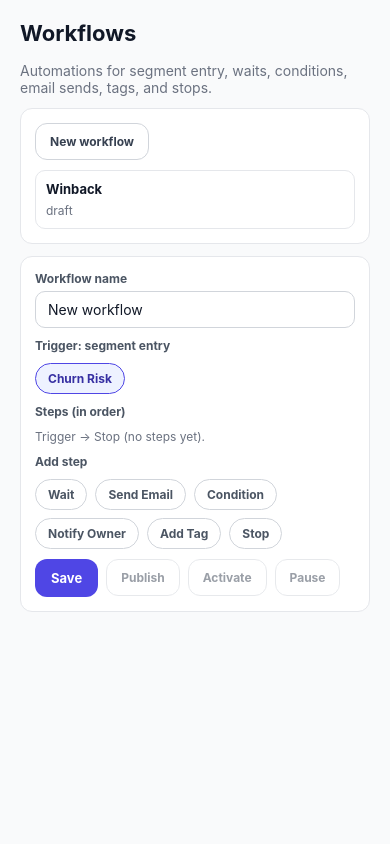
Test case: OwnerMarketingWorkflowsScreen › builds a linear graph with web's node defaults and saves
Expected: the text "Winback" is shown, [46,181,102,197]
Replace the text in the field named "Workflow name" with "Welcome drip": (195, 310) [35,291,355,328]
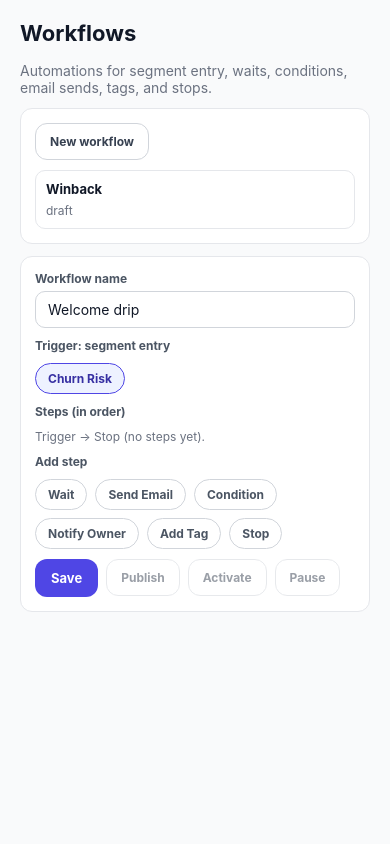
Click the button with aria-label "Add wait": (61, 494) [35,479,87,510]
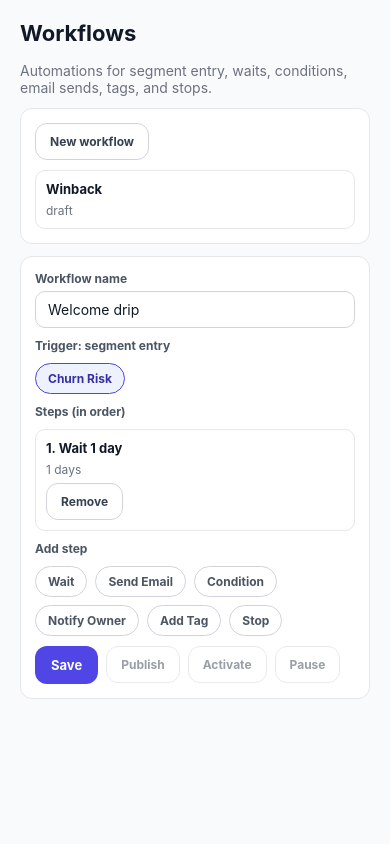
Click the button with aria-label "Add send_email": (141, 582) [95,566,186,597]
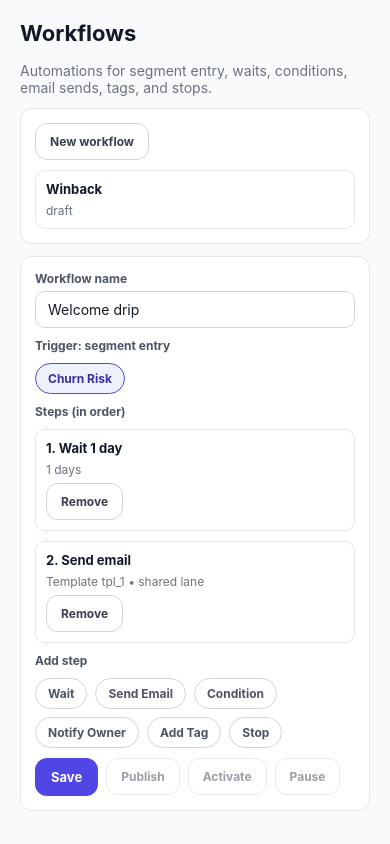
Click the button with aria-label "Save workflow": (67, 777) [35,758,98,796]
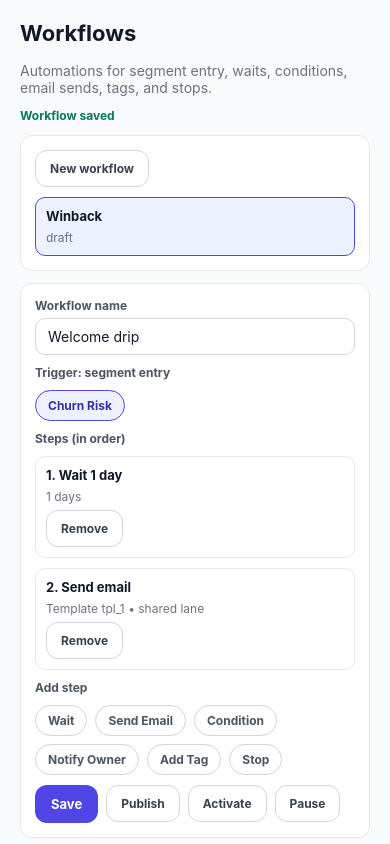
Expected: the text "Workflow saved" is shown, [20,108,115,123]
